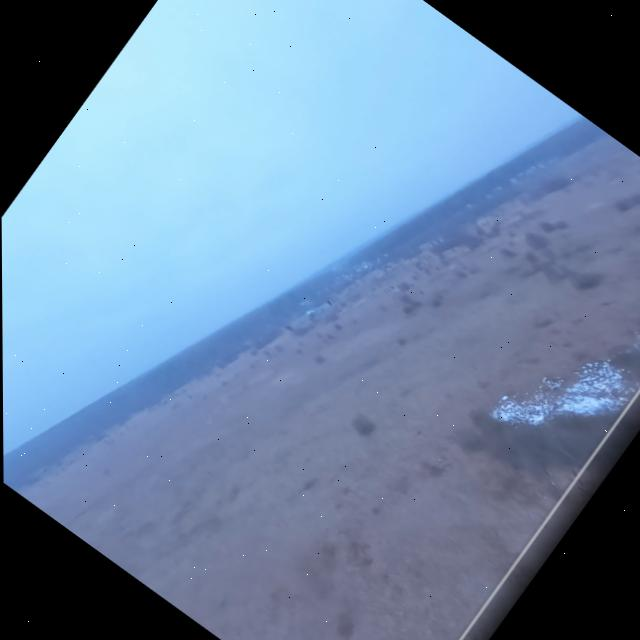planedrone: (285, 287, 336, 344)
